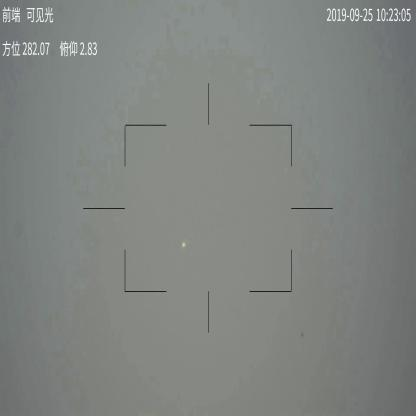uav: (180, 242, 186, 250)
